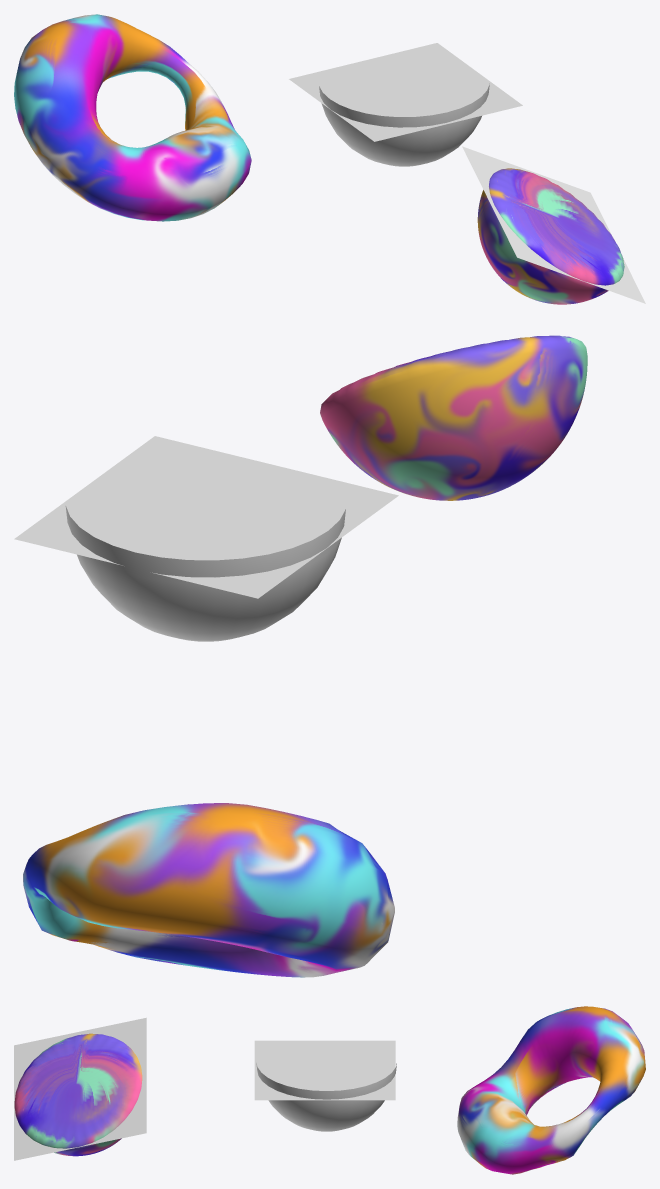
The model's file is blob9.gltf.
3 renders of one model, top to bottom at view 1: azimuth 30°, elevation 25°; view 2: azimuth 150°, elevation 25°; view 3: azimuth 270°, elevation 25°, orthographic. The views are drawn at different scales.
Parts seen in each view (by area): view 1: Torus, Sphere, Plane.001, Sphere.001, Plane; view 2: Torus, Sphere, Plane.001, Sphere.001; view 3: Torus, Sphere, Plane.001, Plane, Sphere.001.
Part boxes in pixels (bbox=[...]): Torus: bbox=[14, 14, 251, 221]; Sphere: bbox=[477, 168, 624, 304]; Plane.001: bbox=[289, 43, 522, 141]; Sphere.001: bbox=[319, 83, 489, 166]; Plane: bbox=[462, 146, 645, 303]; Torus: bbox=[23, 803, 394, 977]; Sphere: bbox=[320, 335, 587, 500]; Plane.001: bbox=[14, 436, 398, 598]; Sphere.001: bbox=[65, 506, 345, 641]; Torus: bbox=[457, 1006, 645, 1174]; Sphere: bbox=[14, 1033, 142, 1156]; Plane.001: bbox=[254, 1040, 395, 1100]; Plane: bbox=[14, 1017, 146, 1160]; Sphere.001: bbox=[256, 1063, 396, 1131].
Size of the model in its own units: 0.4268 by 0.2656 by 0.8962.
Materials: 2 (2 with a texture image).
